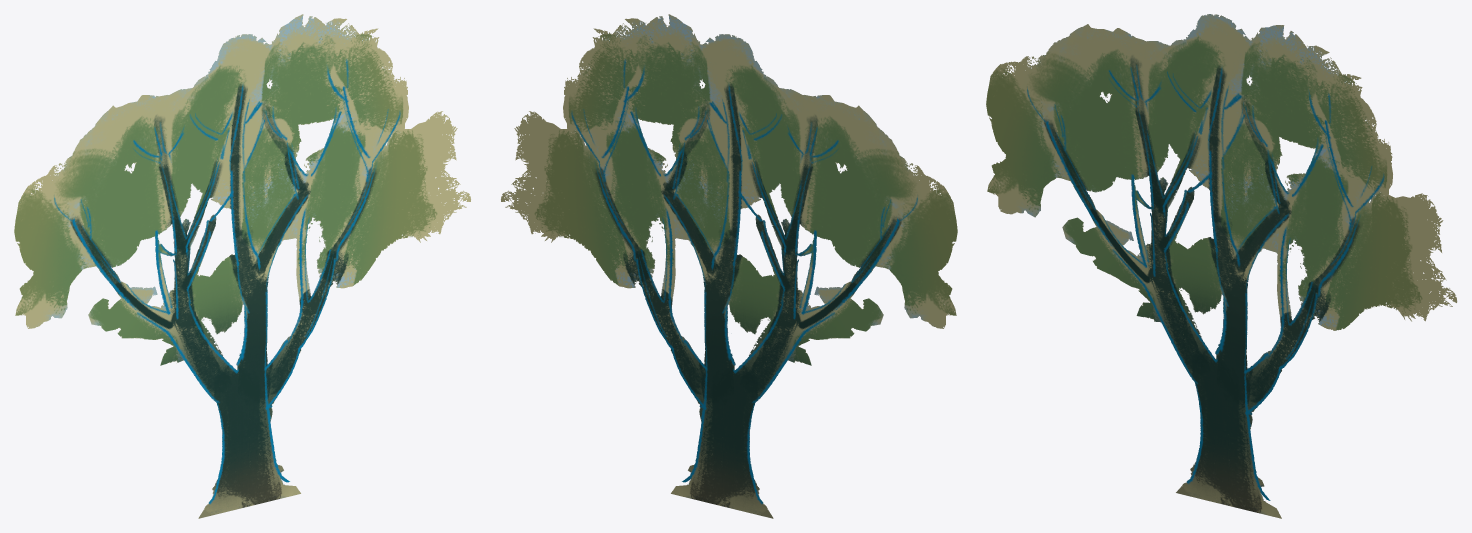
The model's file is tree_3.fbx.
3 renders of one model, left to right at view 1: azimuth 30°, elevation 25°; view 2: azimuth 150°, elevation 25°; view 3: azimuth 330°, elevation 25°, orthographic. The views are drawn at different scales.
Parts seen in each view (by area): view 1: mask24; view 2: mask24; view 3: mask24.
Part boxes in pixels (left/top/right/bottom): mask24: left=14, top=14, right=470, bottom=518; mask24: left=501, top=14, right=957, bottom=518; mask24: left=986, top=14, right=1457, bottom=518.
Bounding box in the file's own units: 9.96 × 9.97 × 1.53e-07.
1 material, 1 textured.
